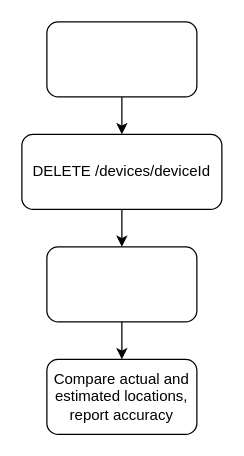
The diagram is 244 pixels wide and 456 high, and some of its shapes have lost their labels. Here are the shapes that lost their labels. From the top down, the box of each, then its label:
(46, 21, 197, 97): Instantiate Devices on Map
(46, 246, 197, 322): Run Simulation
